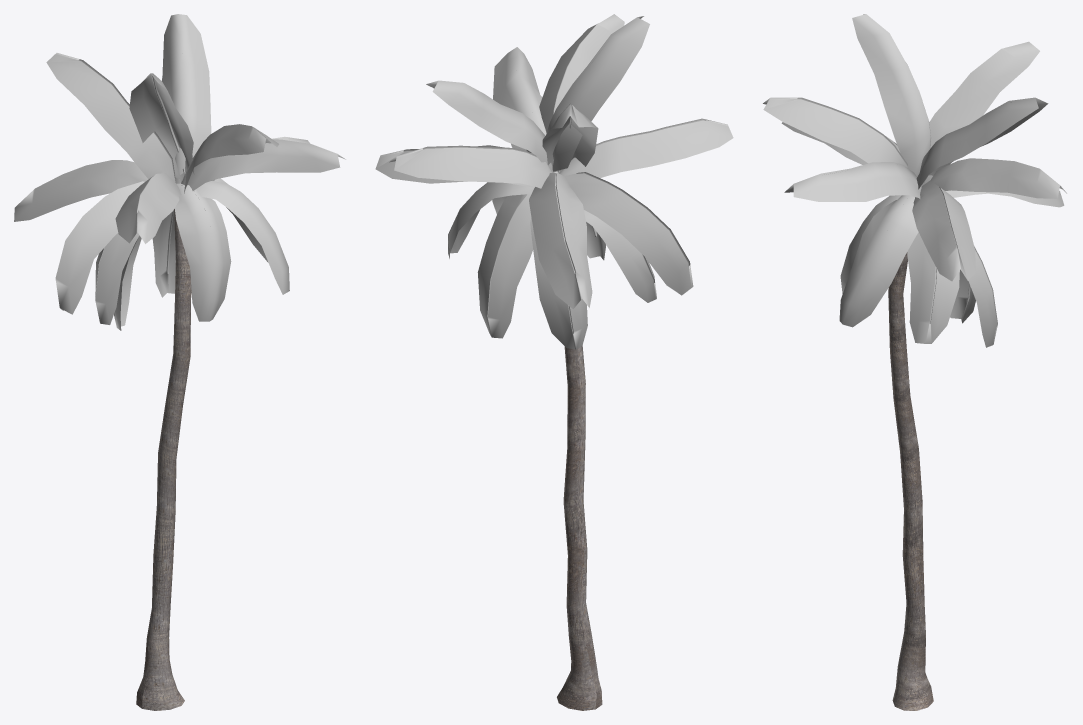
Rendered from palm3 c.dae.
3 views of the same model, side by side, from view 1: azimuth 30°, elevation 25°; view 2: azimuth 150°, elevation 25°; view 3: azimuth 270°, elevation 25° (orthographic). The views are drawn at different scales.
Visible parts, largest first — view 1: palm_3c; view 2: palm_3c; view 3: palm_3c.
Part boxes in pixels (box(x1,y1,x2,y2)): palm_3c: box(14, 14, 345, 710); palm_3c: box(375, 14, 733, 710); palm_3c: box(763, 14, 1066, 710).
Bounding box in the file's own units: 172 × 382 × 158.
